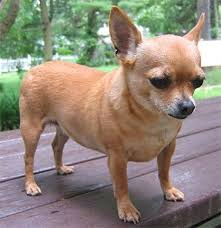Chihuahua: (8, 3, 209, 225)
